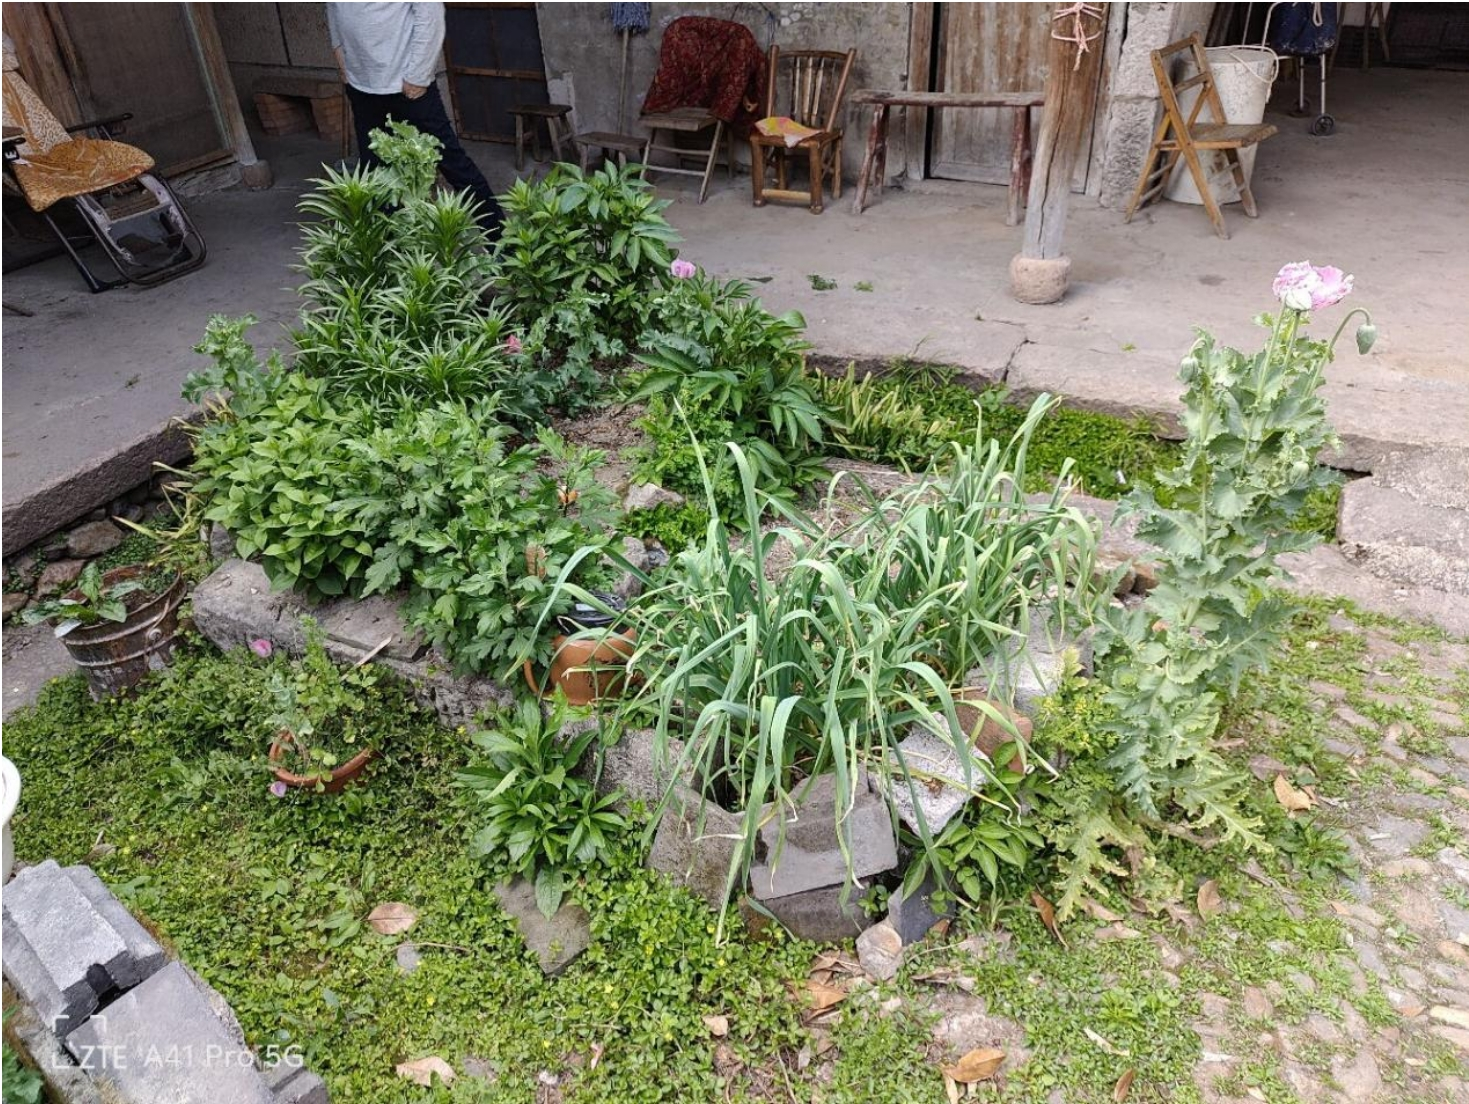Poppy: (1088, 233, 1390, 816), (628, 244, 769, 388)
